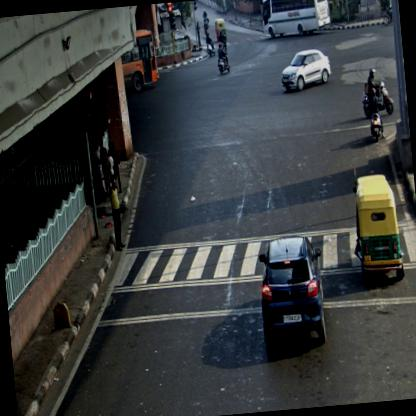bus: (261, 0, 333, 43), (121, 30, 161, 94)
car: (255, 235, 329, 352), (280, 47, 334, 94)
motorcycle: (358, 66, 394, 120), (368, 88, 384, 142), (216, 42, 230, 74), (206, 32, 216, 58)
